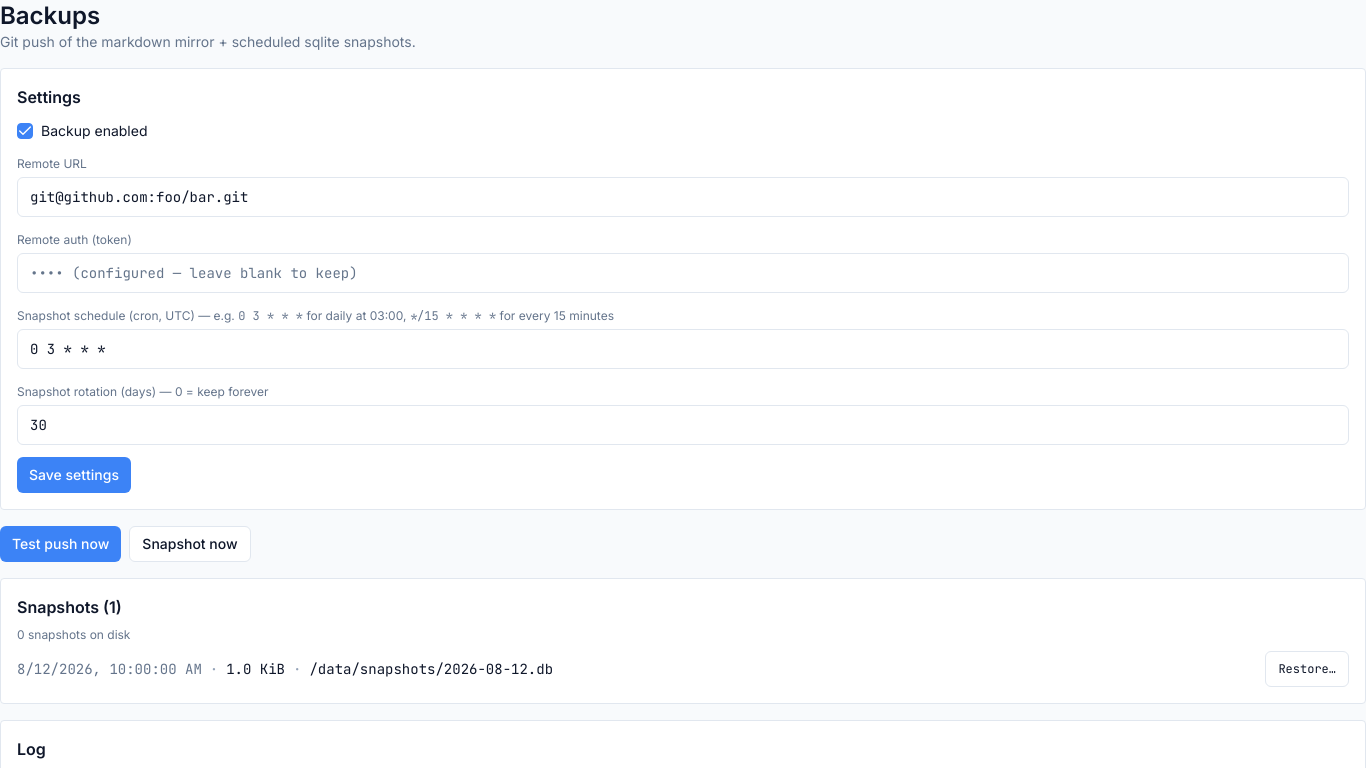
BackupsSettingsPage › Restore in this window: maintenance on → force restore → reload
Step 1. Click the button "Restore…" → coordinates (1307, 669), box [1265,651,1349,687]
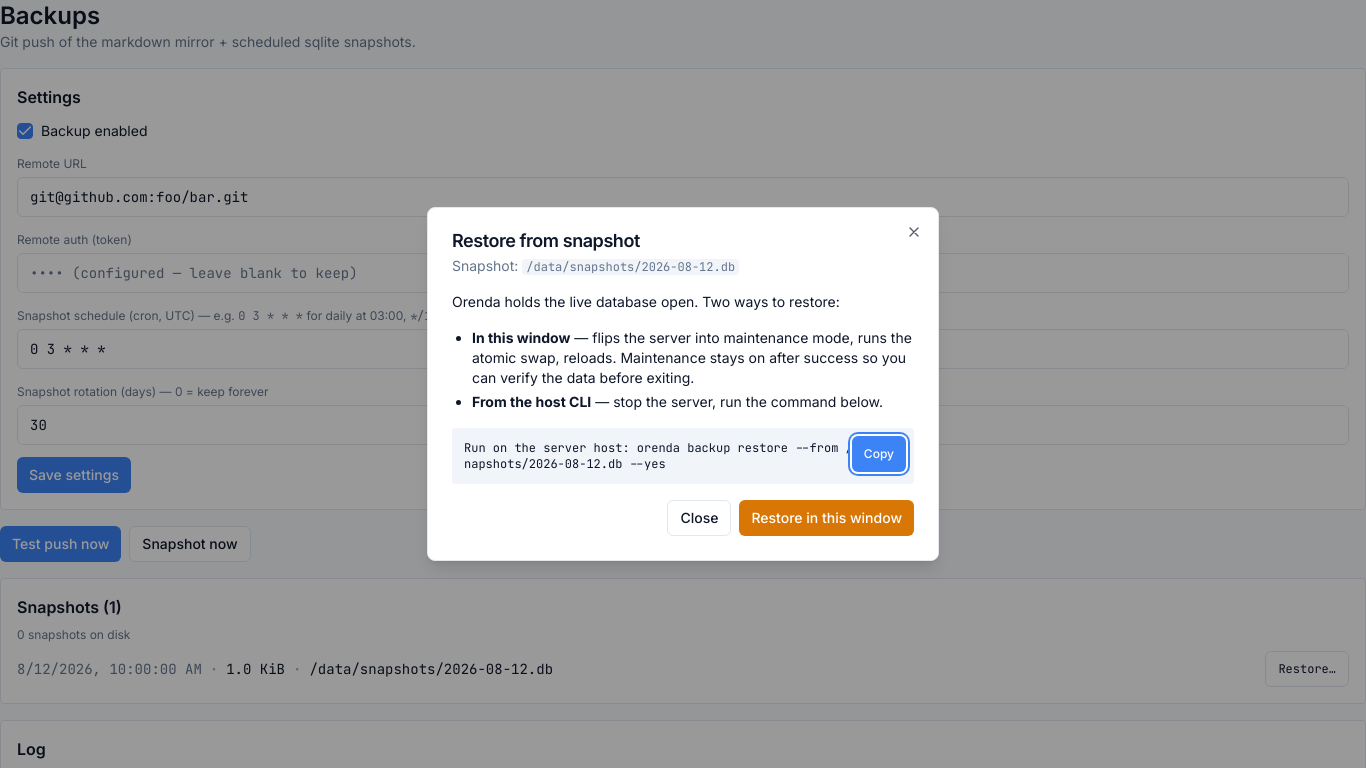
Result: the heading "Restore from snapshot" is shown at [452,230,640,251]
Step 2. Click the button with test id "restore-inline" → coordinates (827, 518), box [739,500,914,536]
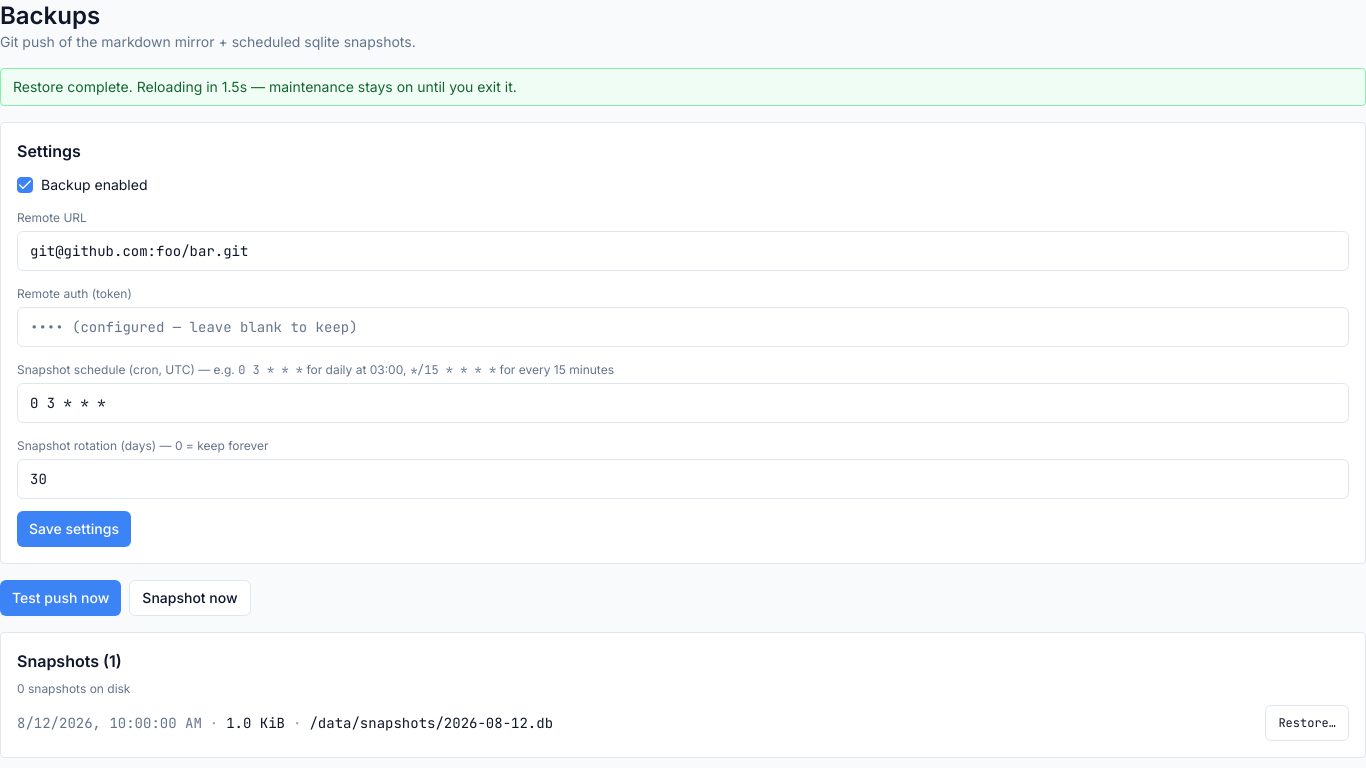
Result: the text "Restore complete" is shown at [13,78,517,95]
